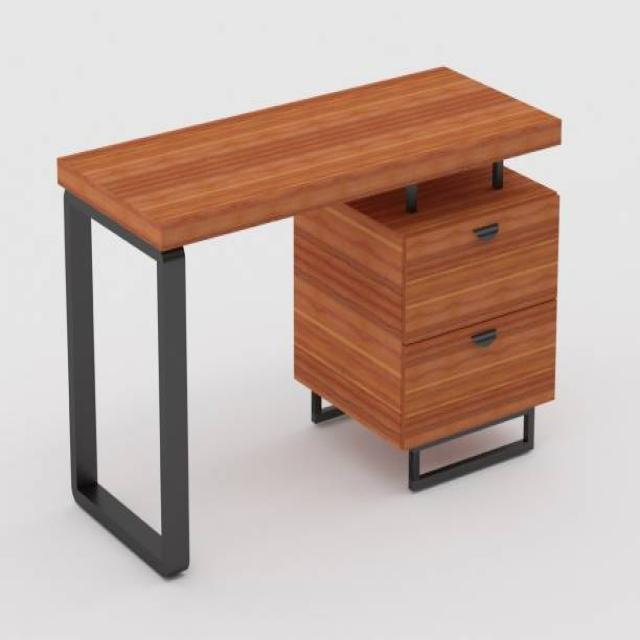table: (56, 64, 562, 577)
